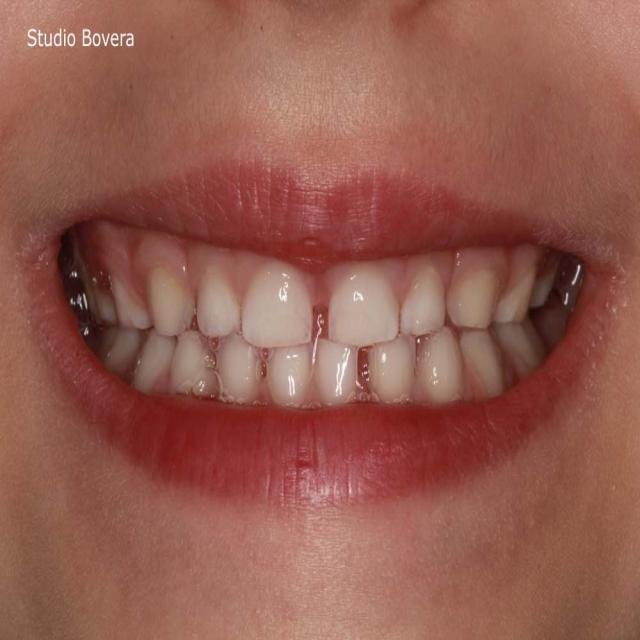tooth: (330, 269, 398, 348), (247, 269, 314, 348), (446, 258, 500, 343), (394, 254, 448, 336), (300, 339, 363, 400), (192, 274, 248, 338), (366, 341, 422, 403), (418, 339, 468, 407), (106, 270, 156, 336), (261, 337, 312, 401), (460, 339, 510, 404), (146, 272, 197, 332), (217, 341, 263, 404), (174, 329, 212, 397), (498, 255, 532, 326), (504, 325, 543, 383), (130, 333, 168, 391), (532, 248, 558, 311), (107, 322, 135, 374), (90, 269, 112, 330), (534, 311, 559, 344)
